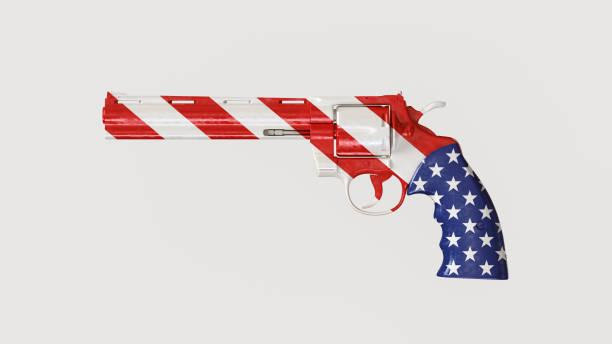weapon: (99, 89, 508, 280)
